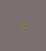four: (19, 19, 24, 31)
